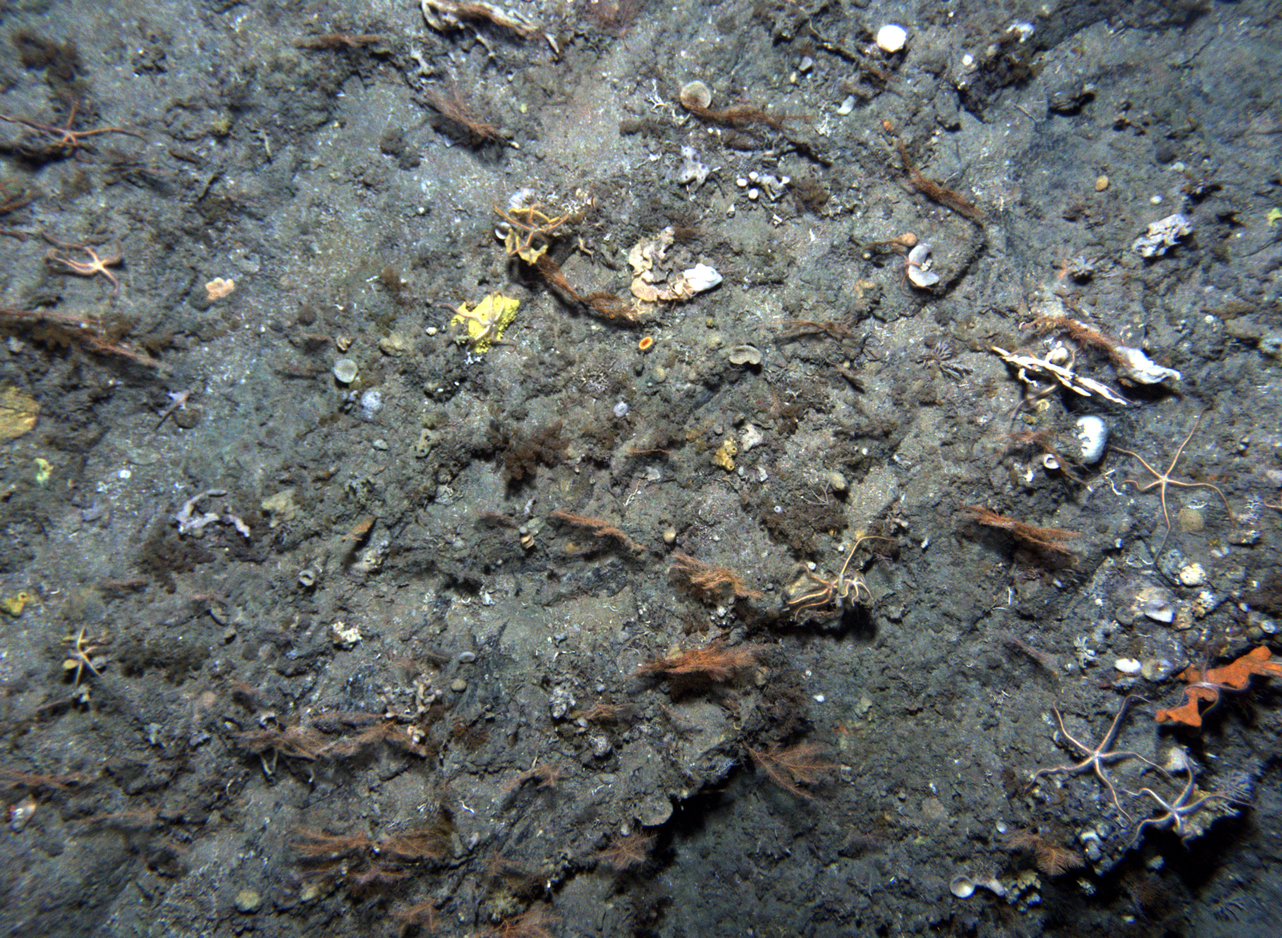Brachionichthyidae: (152, 388, 191, 433)
